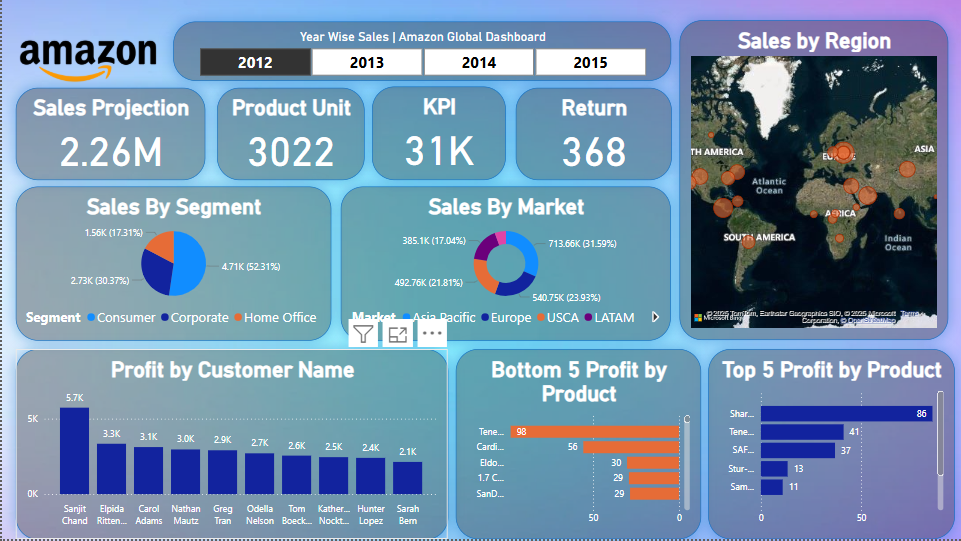

Layout of this report page (visuals, bound fields, positions):
{"tool":"powerbi","page":{"name":"Page 1","canvas":[1280,720],"ordinal":0},"visuals":[{"type":"slicer","title":"Year Wise Sales | Amazon Global Dashboard","fields":{"Values":["Orders.Year of Order"]},"box":[228.7,29.3,664,79.5],"z":0},{"type":"image","box":[18.3,0,193.2,165.1],"z":1000},{"type":"card","title":"Sales Projection","fields":{"Values":["Orders.Sales"]},"box":[18.3,118.6,255.6,123.5],"z":2000},{"type":"card","title":"Product Unit","fields":{"Values":["Orders.Product Name"]},"box":[287.4,118.6,194.4,123.5],"z":3000},{"type":"card","title":"KPI ","fields":{"Values":["Orders.Quantity"]},"box":[494,117.4,178.5,124.7],"z":4000},{"type":"card","title":"Return","fields":{"Values":["Orders.Ship Date"]},"box":[684.8,118.6,207.9,123.5],"z":5000},{"type":"pieChart","title":"Sales By Segment","fields":{"Category":["Orders.Segment"],"Y":["Orders.Sales"]},"box":[18.3,249.5,420.7,205.4],"z":6000},{"type":"donutChart","title":"Sales By Market","fields":{"Category":["Orders.Market"],"Y":["Orders.Sales"]},"box":[452.4,249.5,440.2,205.4],"z":7000},{"type":"columnChart","title":"Profit by Customer Name","fields":{"Category":["Orders.Customer Name"],"Y":["Orders.Profit"]},"box":[18.3,465.9,577.2,254.3],"z":8000},{"type":"clusteredBarChart","title":"Bottom 5 Profit by Product ","fields":{"Y":["Orders.Profit"],"Category":["Orders.Product Name"]},"box":[605,466.2,327.5,253.8],"z":9000},{"type":"clusteredBarChart","title":"Top 5 Profit by Product ","fields":{"Y":["Orders.Profit"],"Category":["Orders.Product Name"]},"box":[941.2,466.2,328.8,253.8],"z":10000},{"type":"map","title":"Sales by Region","fields":{"Category":["Orders.Region"],"Size":["Orders.Sales"]},"box":[902.5,28.8,358.8,426.2],"z":11000}]}

Visuals, with their boxes in screenshot pixels (x1, y1, x2, y2), scaled from the page's 1280x720 canvas onto the 961x541 screenshot:
"Year Wise Sales | Amazon Global Dashboard" slicer: crop(172, 22, 670, 82)
image: crop(14, 0, 159, 124)
"Sales Projection" card: crop(14, 89, 206, 182)
"Product Unit" card: crop(216, 89, 362, 182)
"KPI " card: crop(371, 88, 505, 182)
"Return" card: crop(514, 89, 670, 182)
"Sales By Segment" pieChart: crop(14, 187, 330, 342)
"Sales By Market" donutChart: crop(340, 187, 670, 342)
"Profit by Customer Name" columnChart: crop(14, 350, 447, 540)
"Bottom 5 Profit by Product " clusteredBarChart: crop(454, 350, 700, 540)
"Top 5 Profit by Product " clusteredBarChart: crop(707, 350, 953, 540)
"Sales by Region" map: crop(678, 22, 947, 342)
